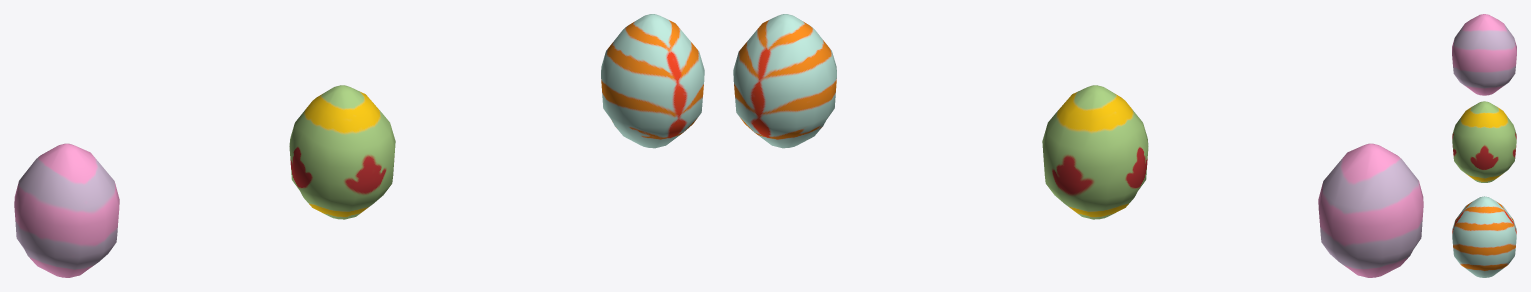
Rendered from Huevos_LOW.fbx.
The picture shows the model from 3 angles, left to right: view 1: azimuth 30°, elevation 25°; view 2: azimuth 150°, elevation 25°; view 3: azimuth 270°, elevation 25°; orthographic projection. The views are drawn at different scales.
Visible parts, largest first — view 1: Huevo1_LOW, Huevo2_LOW, Huevo3_LOW; view 2: Huevo1_LOW, Huevo2_LOW, Huevo3_LOW; view 3: Huevo1_LOW, Huevo3_LOW, Huevo2_LOW.
Part boxes in pixels (x1,y1,x2,y2): Huevo1_LOW: (14, 143, 119, 277); Huevo2_LOW: (289, 85, 395, 219); Huevo3_LOW: (601, 14, 704, 148); Huevo1_LOW: (1318, 143, 1423, 277); Huevo2_LOW: (1042, 85, 1148, 219); Huevo3_LOW: (733, 14, 836, 148); Huevo1_LOW: (1452, 14, 1516, 95); Huevo3_LOW: (1452, 196, 1516, 277); Huevo2_LOW: (1452, 101, 1516, 182).
Size of the model in its own units: 258 by 52.86 by 35.08.
